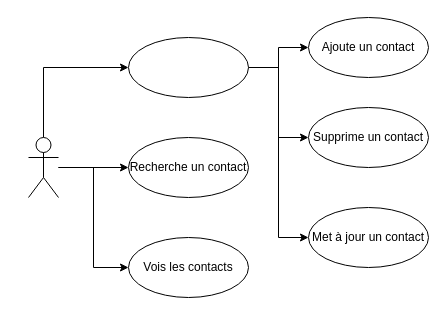
This 446x315 diagram has some shape labels left out. The box of each missing label's shape, as (x1, y1, x2, y2) in pixels:
Gère les contacts: (128, 36, 248, 98)
Utilisateur: (28, 136, 58, 198)
